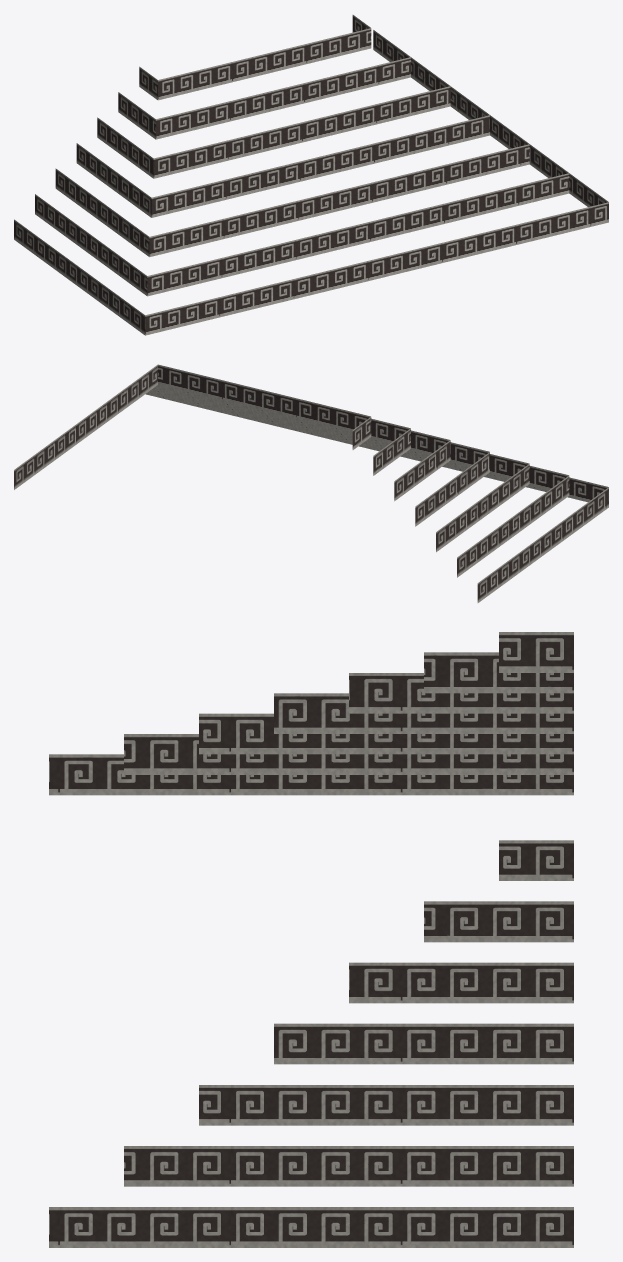
The model's file is altar_greca.obj.
The picture shows the model from 3 angles, top to bottom: view 1: azimuth 30°, elevation 25°; view 2: azimuth 150°, elevation 25°; view 3: azimuth 270°, elevation 25°; orthographic projection. The views are drawn at different scales.
Visible parts, largest first — view 1: altar_greca; view 2: altar_greca; view 3: altar_greca.
Part boxes in pixels (left/top/right/bottom): altar_greca: left=14, top=15, right=608, bottom=335; altar_greca: left=14, top=364, right=608, bottom=602; altar_greca: left=49, top=632, right=573, bottom=1247.
Bounding box in the file's own units: 10 × 2.94 × 4.9.
